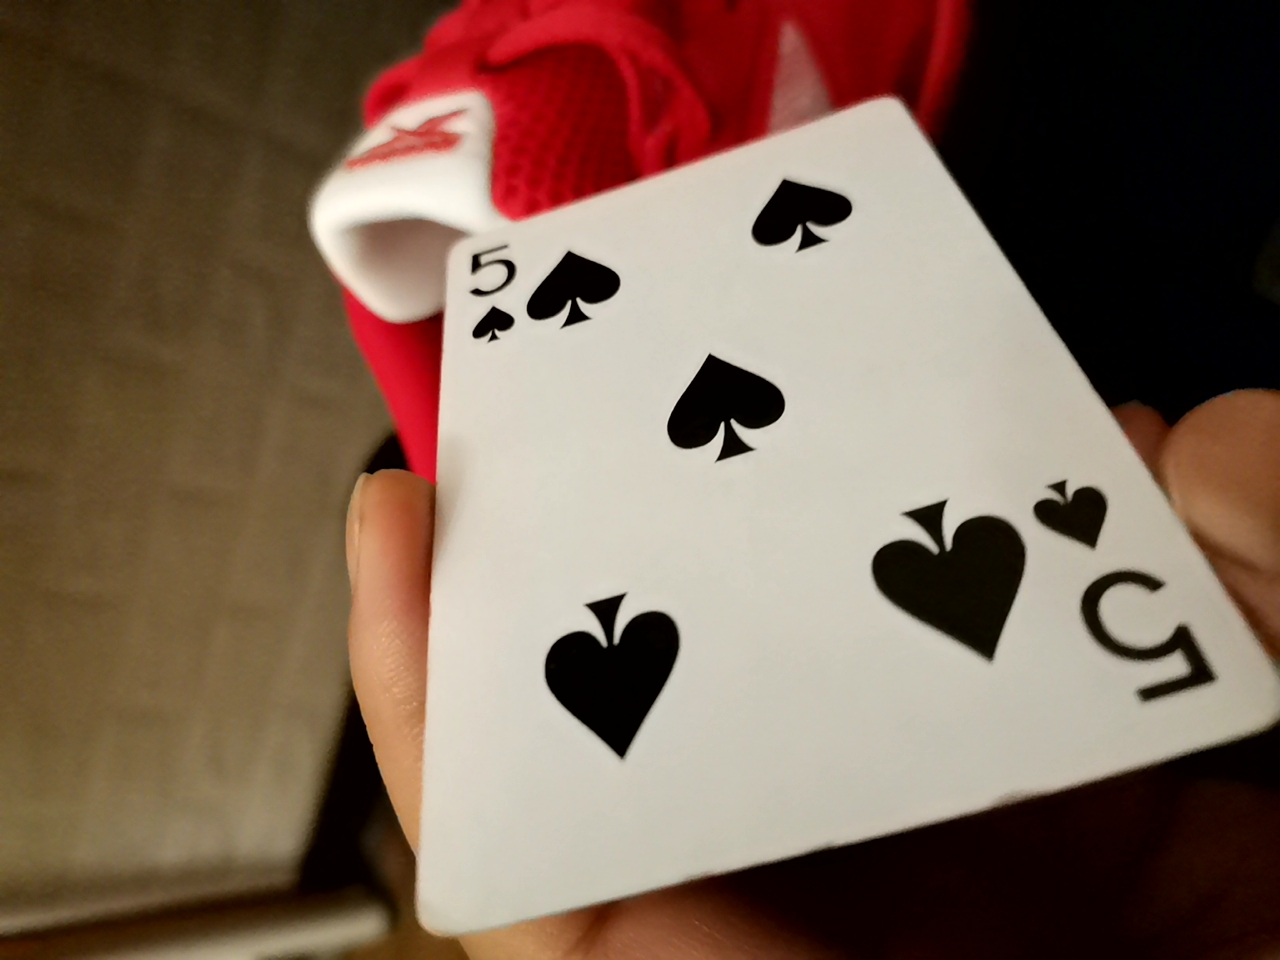ht 5: (364, 101, 1260, 946)
